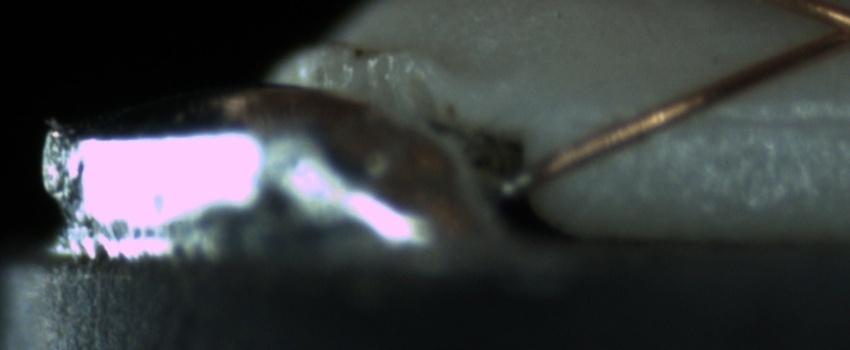CL: (796, 4, 850, 60)
DL: (621, 86, 849, 155)
TS: (497, 165, 537, 201)
